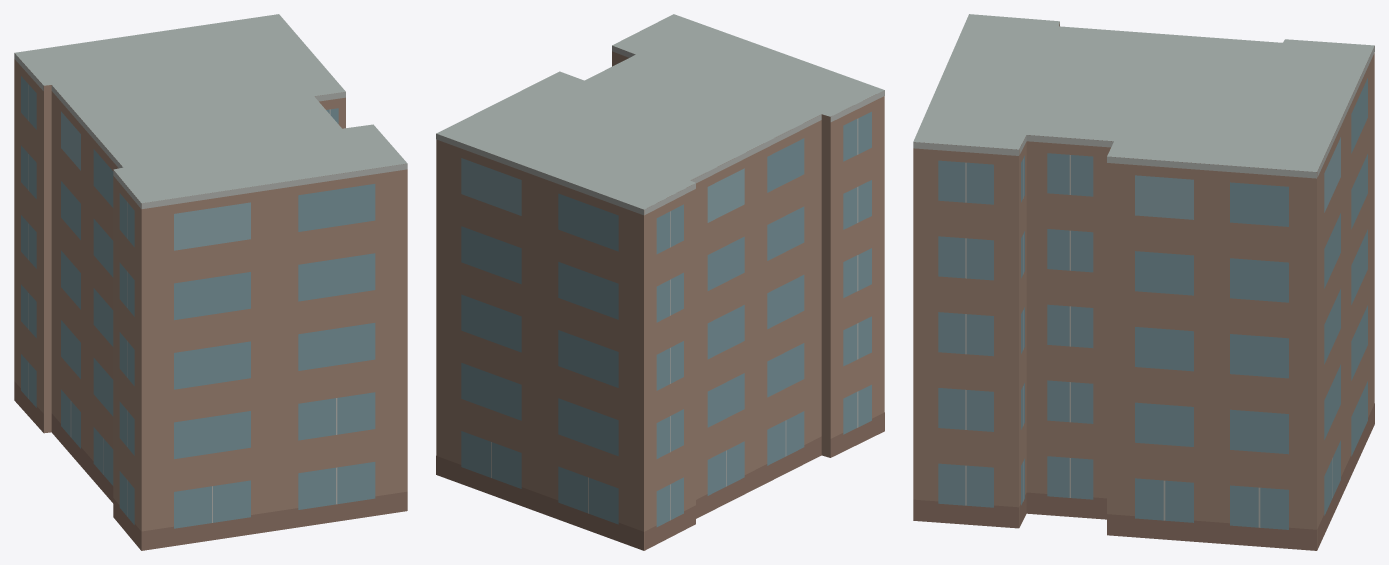
File: survey-upis-32892666.glb
3 renders of one model, left to right at view 1: azimuth 30°, elevation 25°; view 2: azimuth 150°, elevation 25°; view 3: azimuth 270°, elevation 25°, orthographic. The views are drawn at different scales.
Parts seen in each view (by area): view 1: survey-upis-32892666.tmp; view 2: survey-upis-32892666.tmp; view 3: survey-upis-32892666.tmp.
Part boxes in pixels (box(x1,y1,x2,y2)): survey-upis-32892666.tmp: box(14, 14, 407, 550); survey-upis-32892666.tmp: box(436, 14, 884, 550); survey-upis-32892666.tmp: box(913, 14, 1374, 550).
Bounding box in the file's own units: 12.86 × 14.35 × 15.86.
